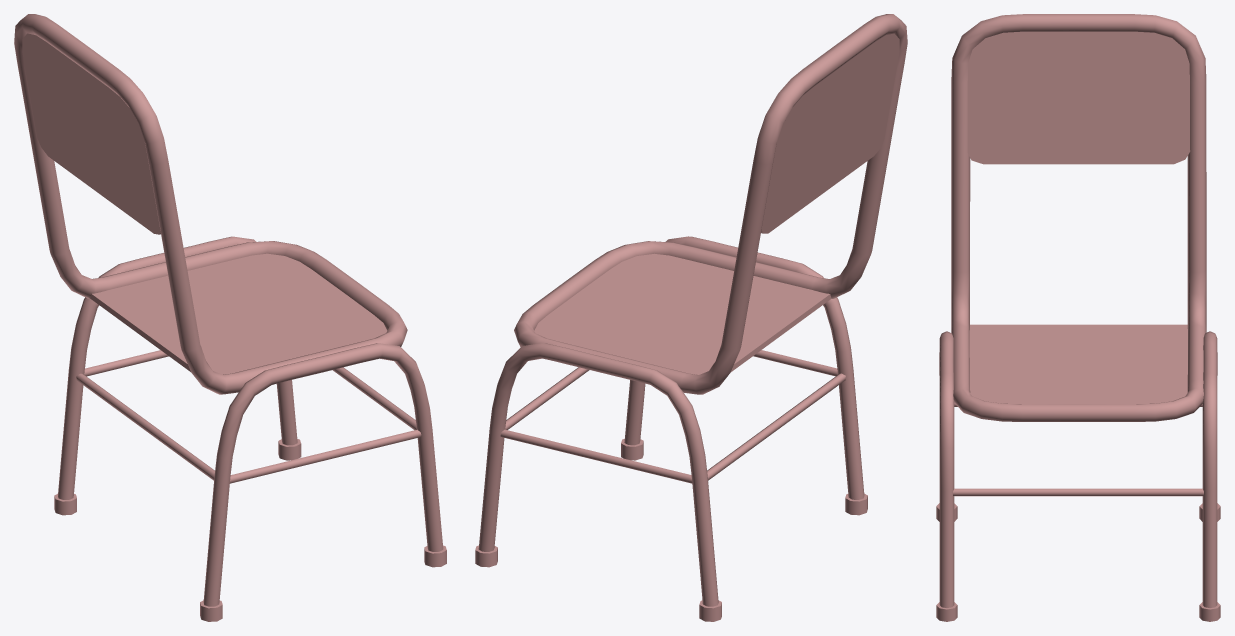
The model's file is Silla 2.fbx.
The picture shows the model from 3 angles, left to right: view 1: azimuth 30°, elevation 25°; view 2: azimuth 150°, elevation 25°; view 3: azimuth 270°, elevation 25°; orthographic projection. The views are drawn at different scales.
Parts seen in each view (by area): view 1: Silla_2; view 2: Silla_2; view 3: Silla_2.
Part boxes in pixels (x1,y1,x2,y2): Silla_2: [14, 14, 446, 621]; Silla_2: [475, 14, 907, 621]; Silla_2: [936, 14, 1220, 621].
Bounding box in the file's own units: 0.7362 × 1.25 × 0.6721.
